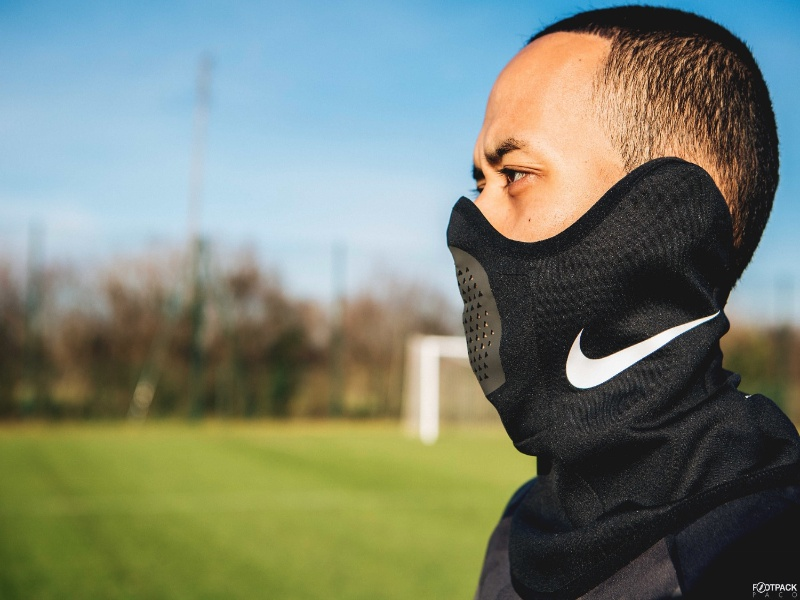ManaoArotava: (408, 39, 694, 464)
